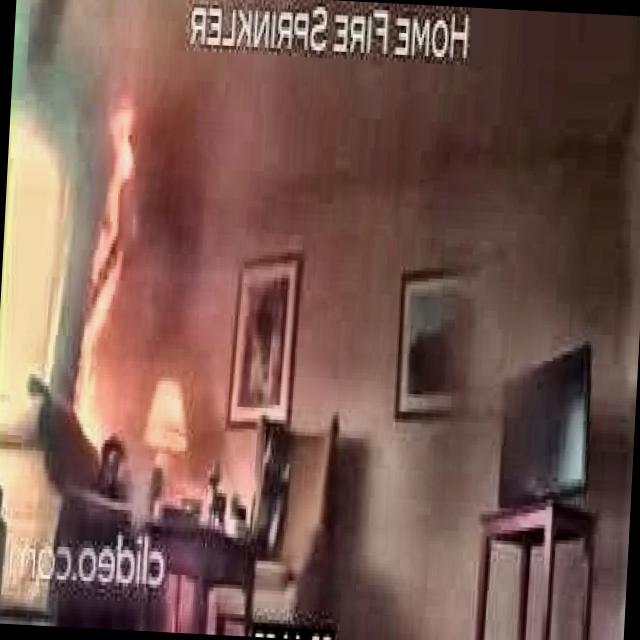fire: (54, 80, 168, 466)
